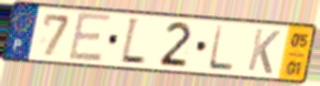2: (158, 21, 195, 70)
7: (41, 13, 72, 58)
E: (66, 10, 114, 64)
K: (245, 27, 282, 76)
L: (118, 15, 148, 68), (205, 24, 236, 74)
